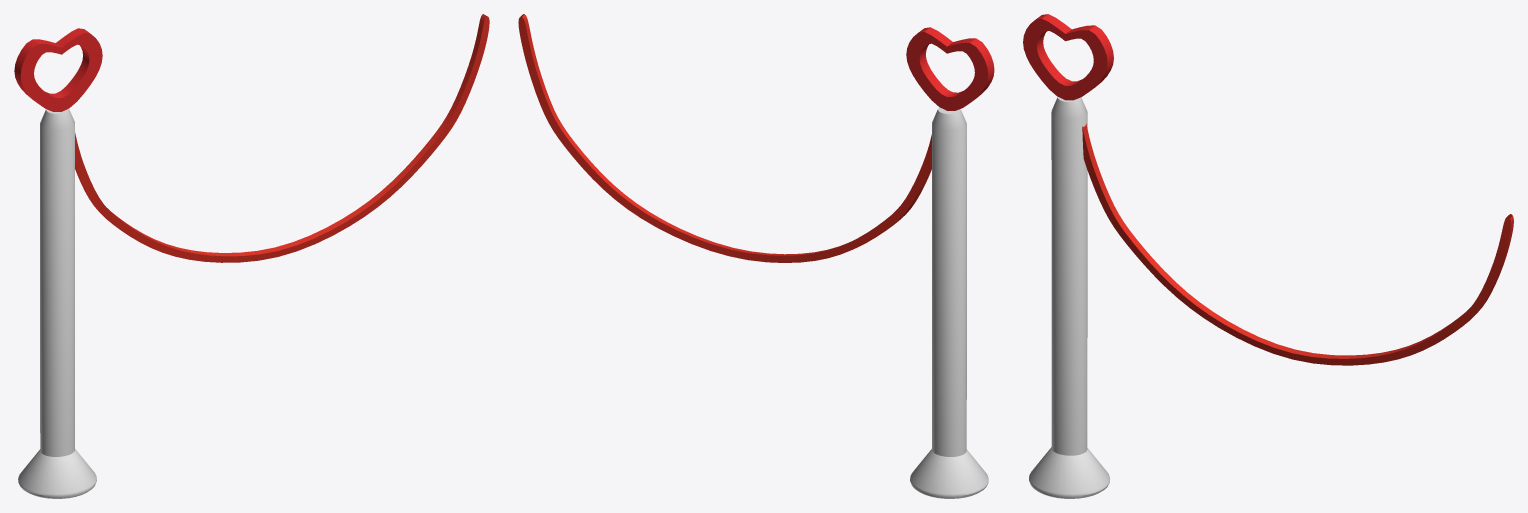
The model's file is Border_002.fbx.
3 views of the same model, side by side, from view 1: azimuth 30°, elevation 25°; view 2: azimuth 150°, elevation 25°; view 3: azimuth 330°, elevation 25° (orthographic). The views are drawn at different scales.
Parts seen in each view (by area): view 1: Border_002; view 2: Border_002; view 3: Border_002.
Boxes of the visible parts, <box> form: Border_002: <box>14,14,489,498</box>; Border_002: <box>518,14,994,498</box>; Border_002: <box>1023,14,1513,498</box>.
Size of the model in its own units: 244 by 222 by 34.69.
